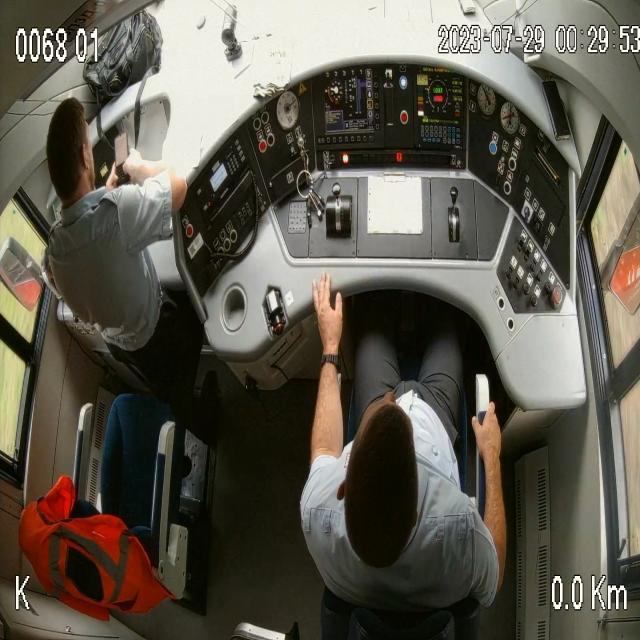smartphone: (112, 128, 136, 190)
